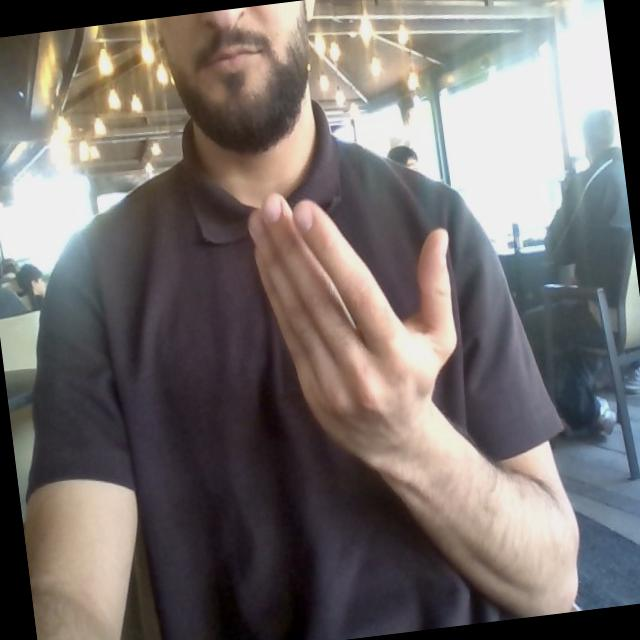Hand: (249, 195, 456, 461)
